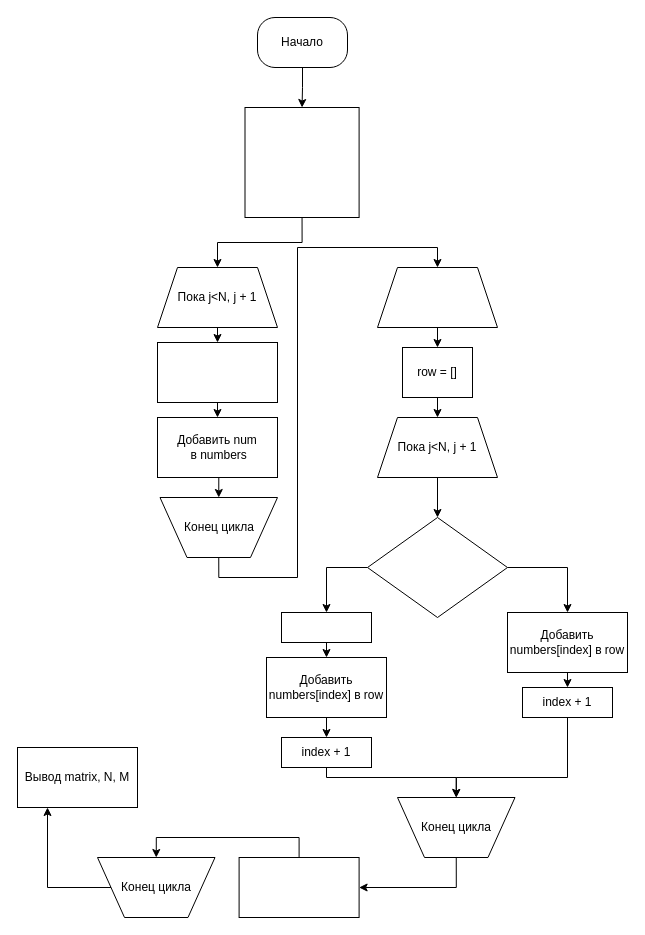
Image size: 645x935. Some labels were removed from this diagram. Here are the shapes that lost their labels. From the top down, the centre of each, then its label:
At [301,162]: "Присваиваем: M = 5 N = 6 numbers = [] matrix = [] index = 0".
At [437,297]: "Пока i<M, i + 1".
At [217,372]: "num = рандомное число не больше 9".
At [437,567]: "index < длинна numbers?".
At [326,627]: "index = 0".
At [298,887]: "Добавить row в matrix".
